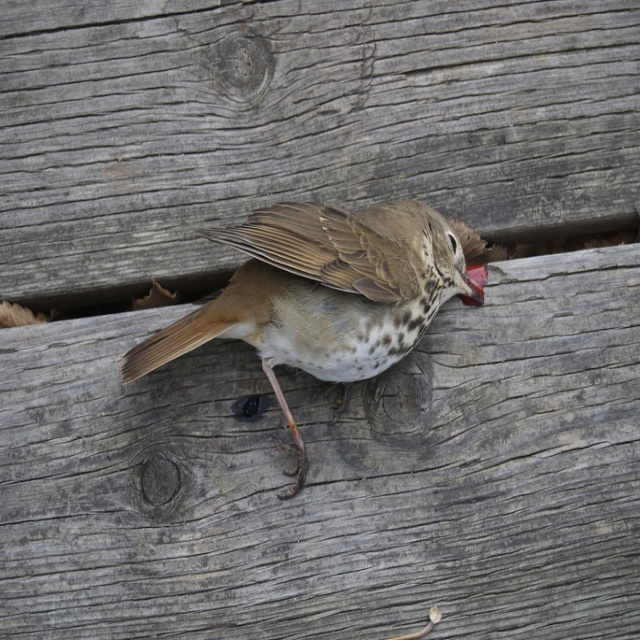Sparrow: (121, 201, 483, 502)
